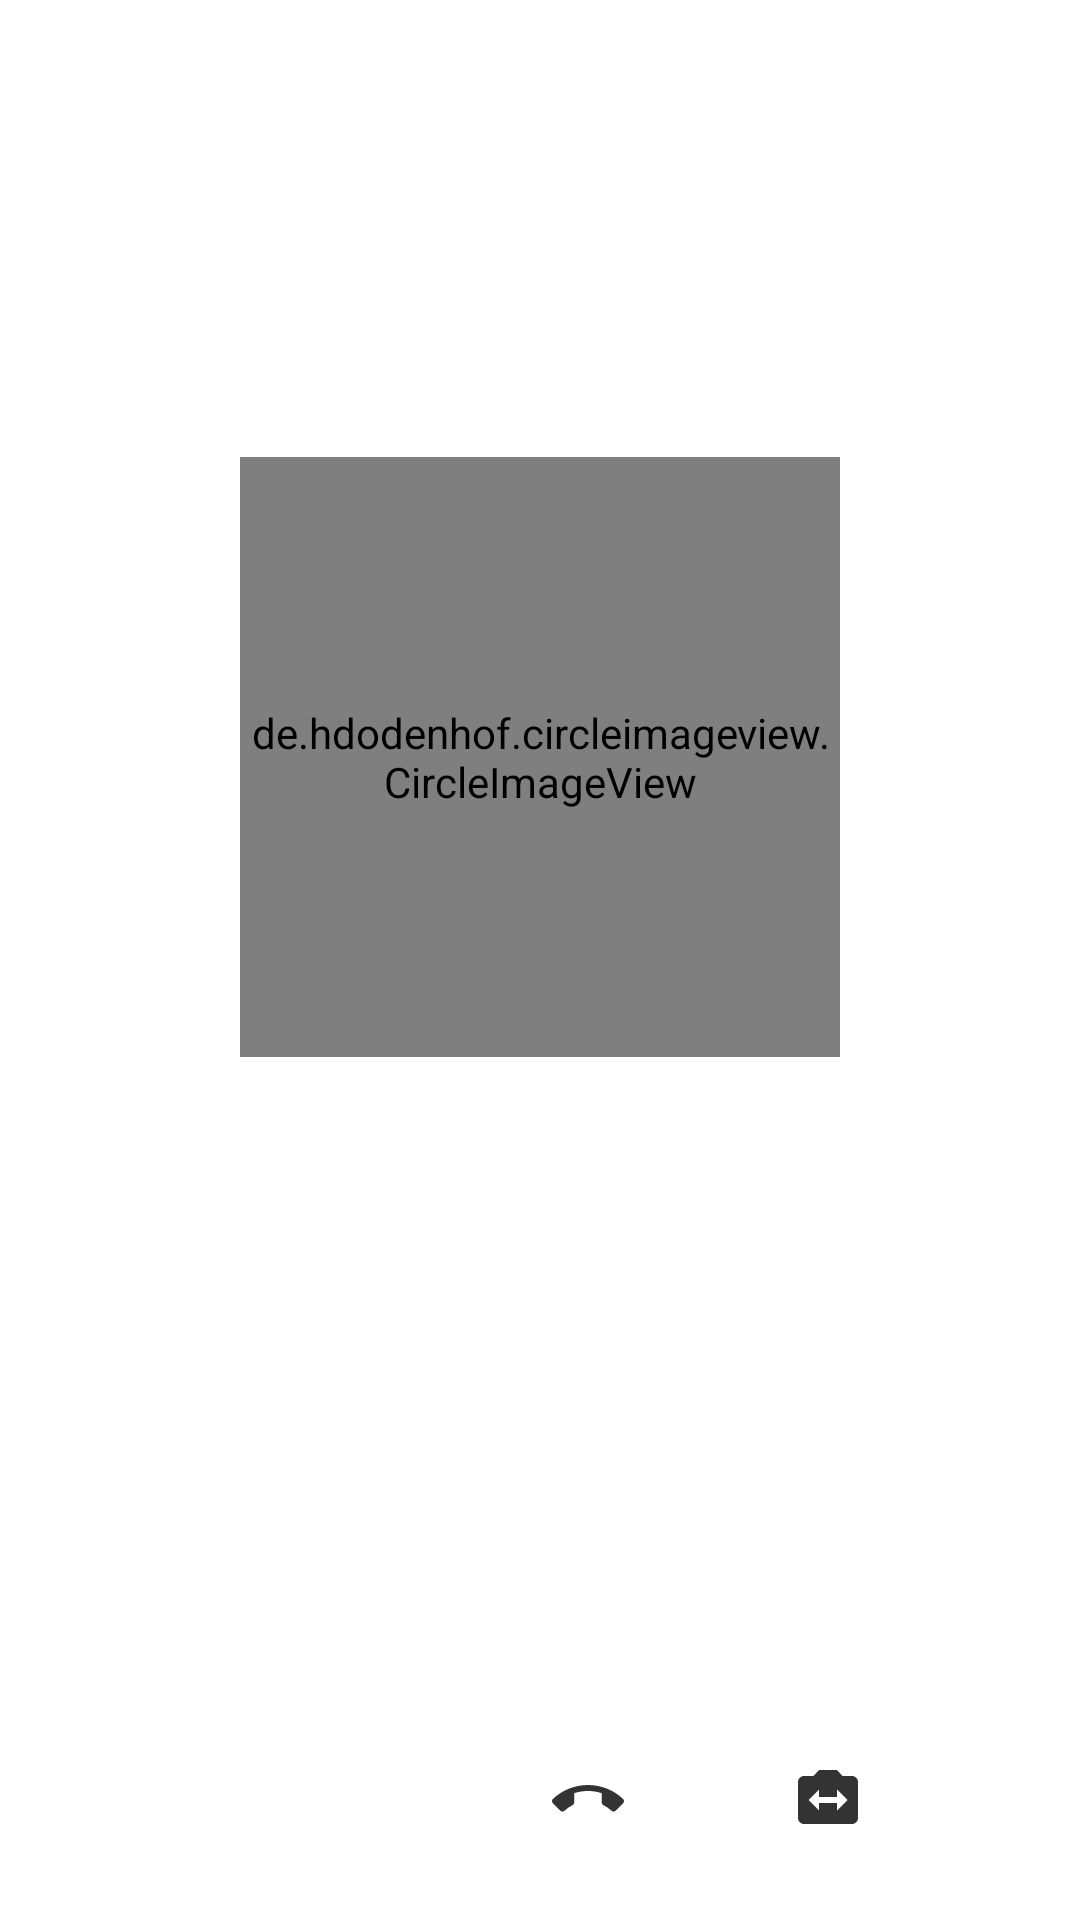

Where icons sit on this 1080x1920 app screen, as (x1, y1, x2, y2):
call end: (552, 1785, 624, 1812)
switch camera: (798, 1770, 858, 1824)
